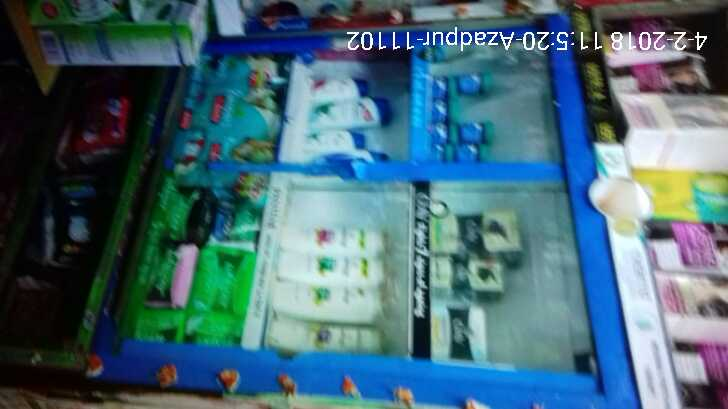vicks: (430, 43, 496, 164)
